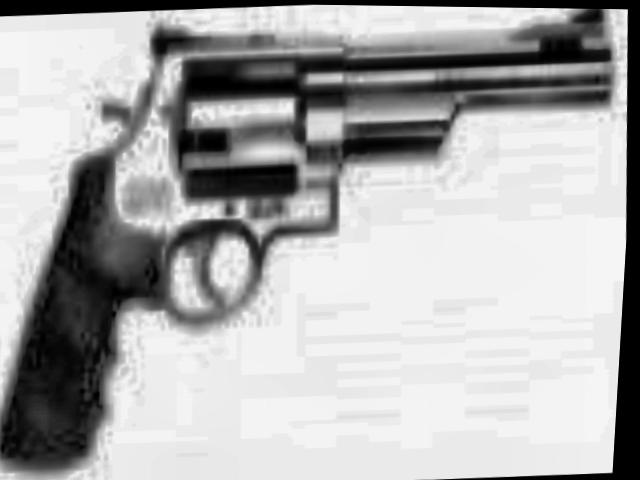pistol: (0, 0, 635, 475)
